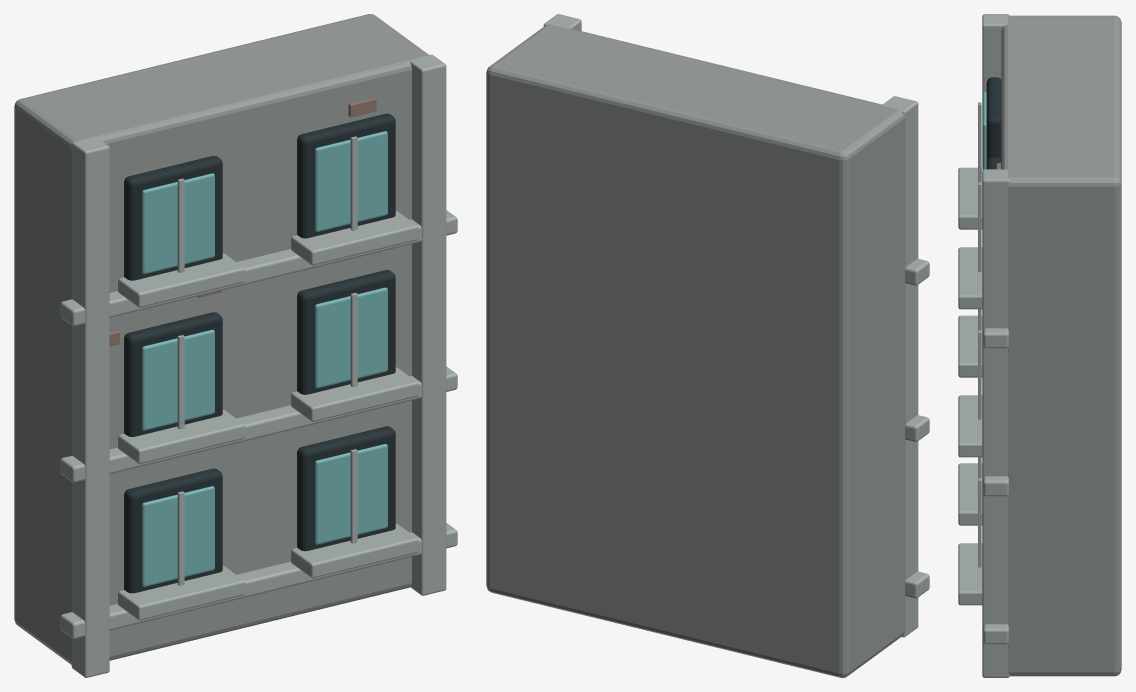
Rendered from SM_CityFacade1.fbx.
The picture shows the model from 3 angles, left to right: view 1: azimuth 30°, elevation 25°; view 2: azimuth 150°, elevation 25°; view 3: azimuth 270°, elevation 25°; orthographic projection. The views are drawn at different scales.
Parts seen in each view (by area): view 1: SM_CityFacade1; view 2: SM_CityFacade1; view 3: SM_CityFacade1.
Boxes of the visible parts, <box> form: SM_CityFacade1: <box>14,14,457,677</box>; SM_CityFacade1: <box>486,14,929,677</box>; SM_CityFacade1: <box>958,14,1121,677</box>.
Bounding box in the file's own units: 245 × 95 × 320.
